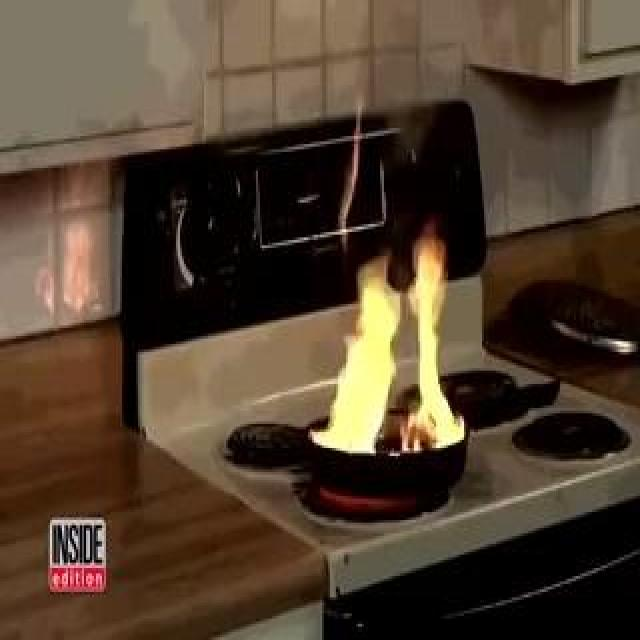Fire: (306, 85, 470, 456)
